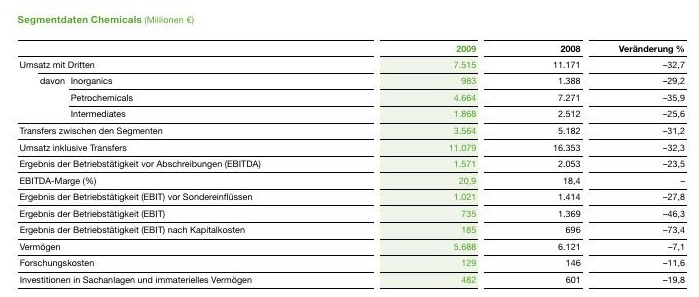table: (0, 0, 699, 297)
